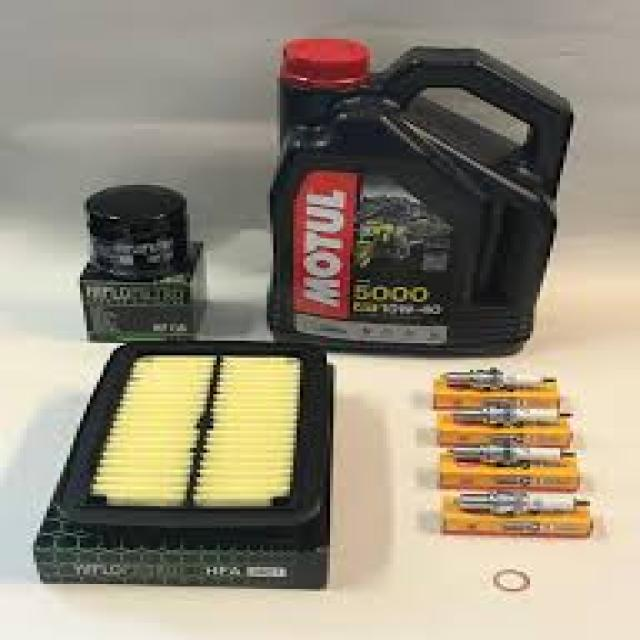air_filter: (46, 344, 342, 568)
motor_oil: (269, 36, 577, 365)
oil_filter: (78, 182, 202, 274)
